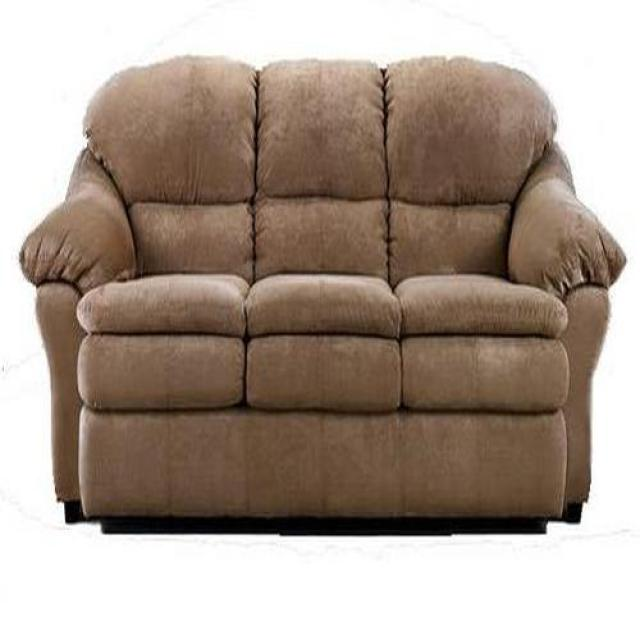sofa: (17, 55, 628, 538)
